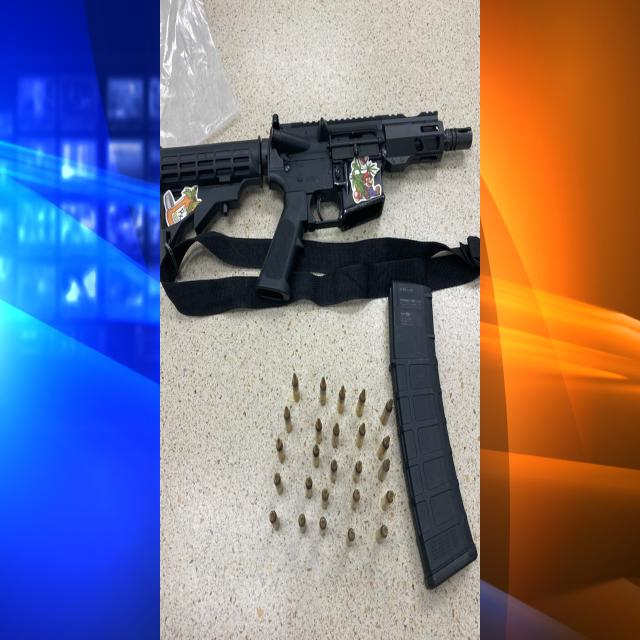Rifle: (160, 113, 473, 302)
